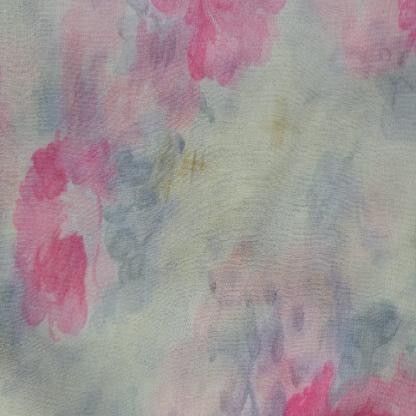spot: (158, 139, 216, 206), (254, 105, 307, 163)
